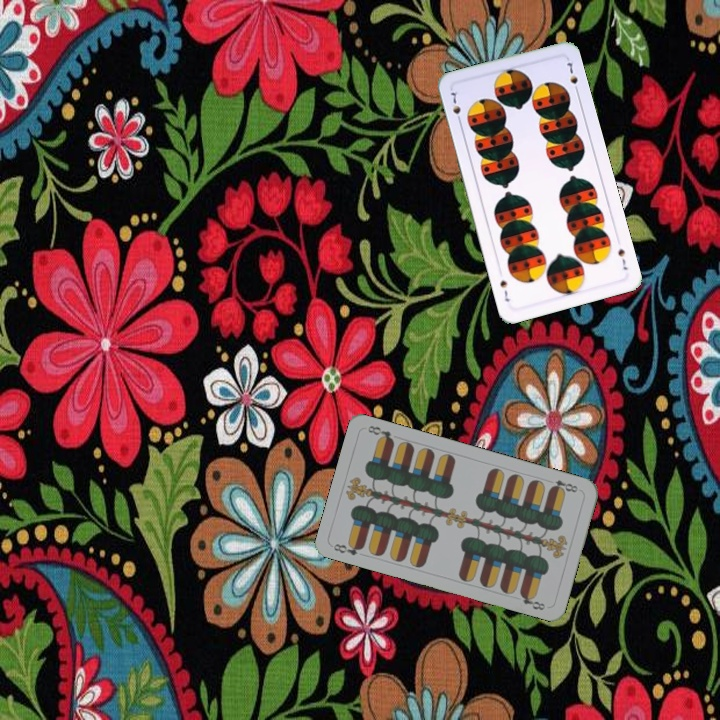E8: (329, 539, 366, 558), (546, 476, 581, 495)
S7: (447, 86, 464, 126), (614, 245, 630, 273)
